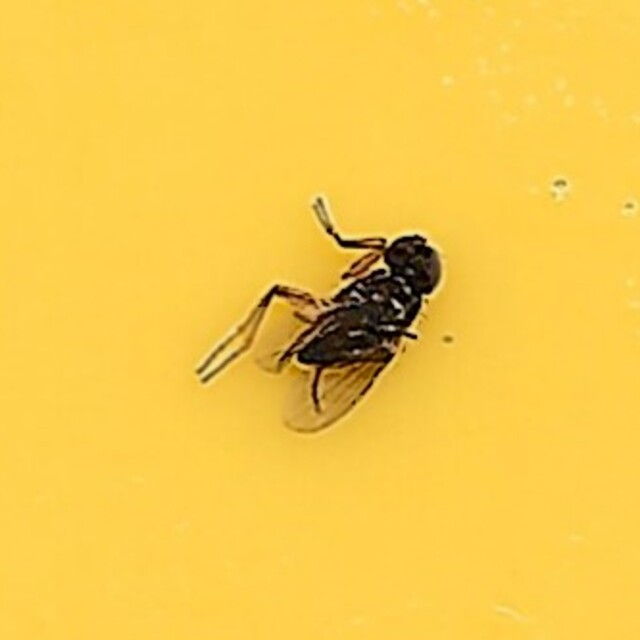Brachycera: (192, 201, 448, 439)
